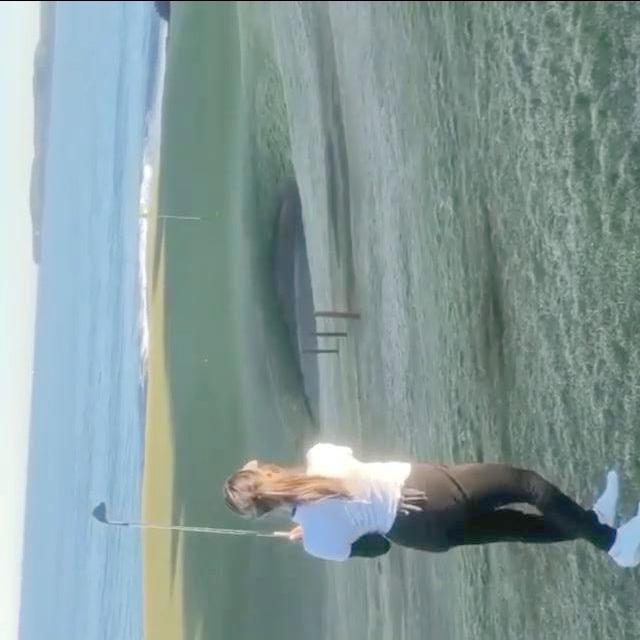golf club-handle: (88, 501, 298, 540)
golf club-head: (91, 501, 112, 522)
